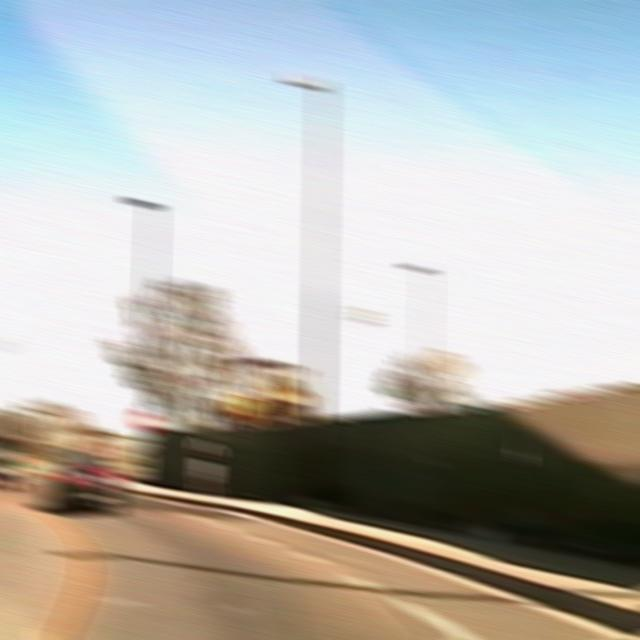stop_sign: (132, 408, 159, 433)
